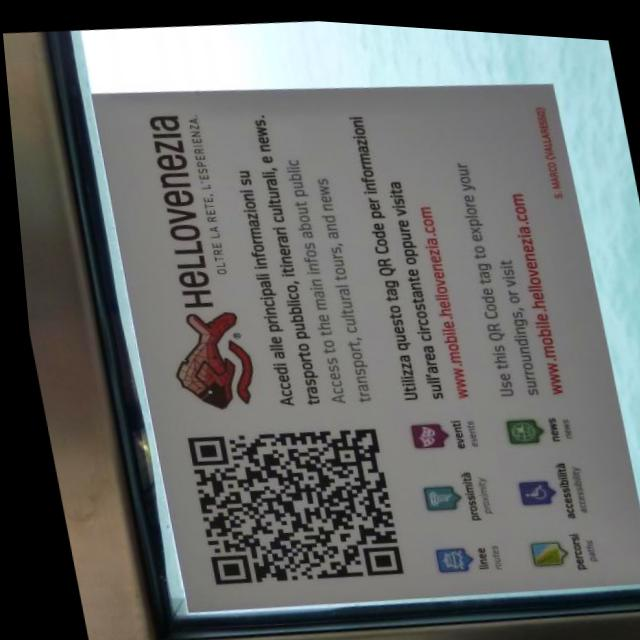qrcode: (178, 413, 395, 591)
